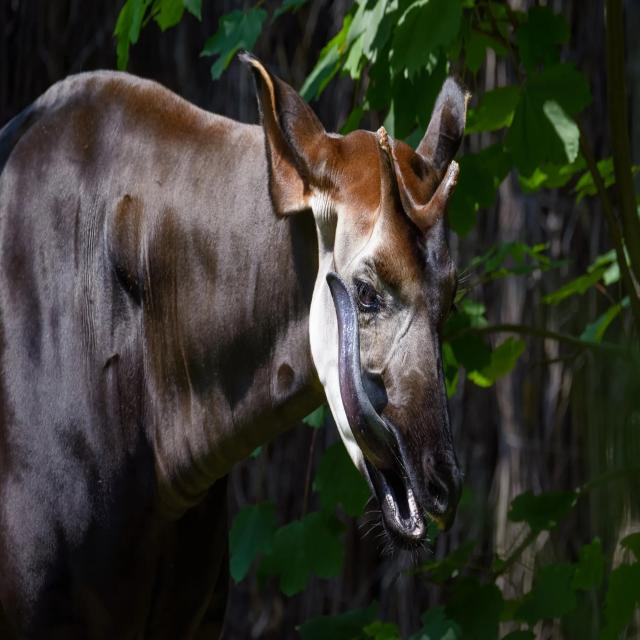Okapi: (0, 42, 470, 640)
